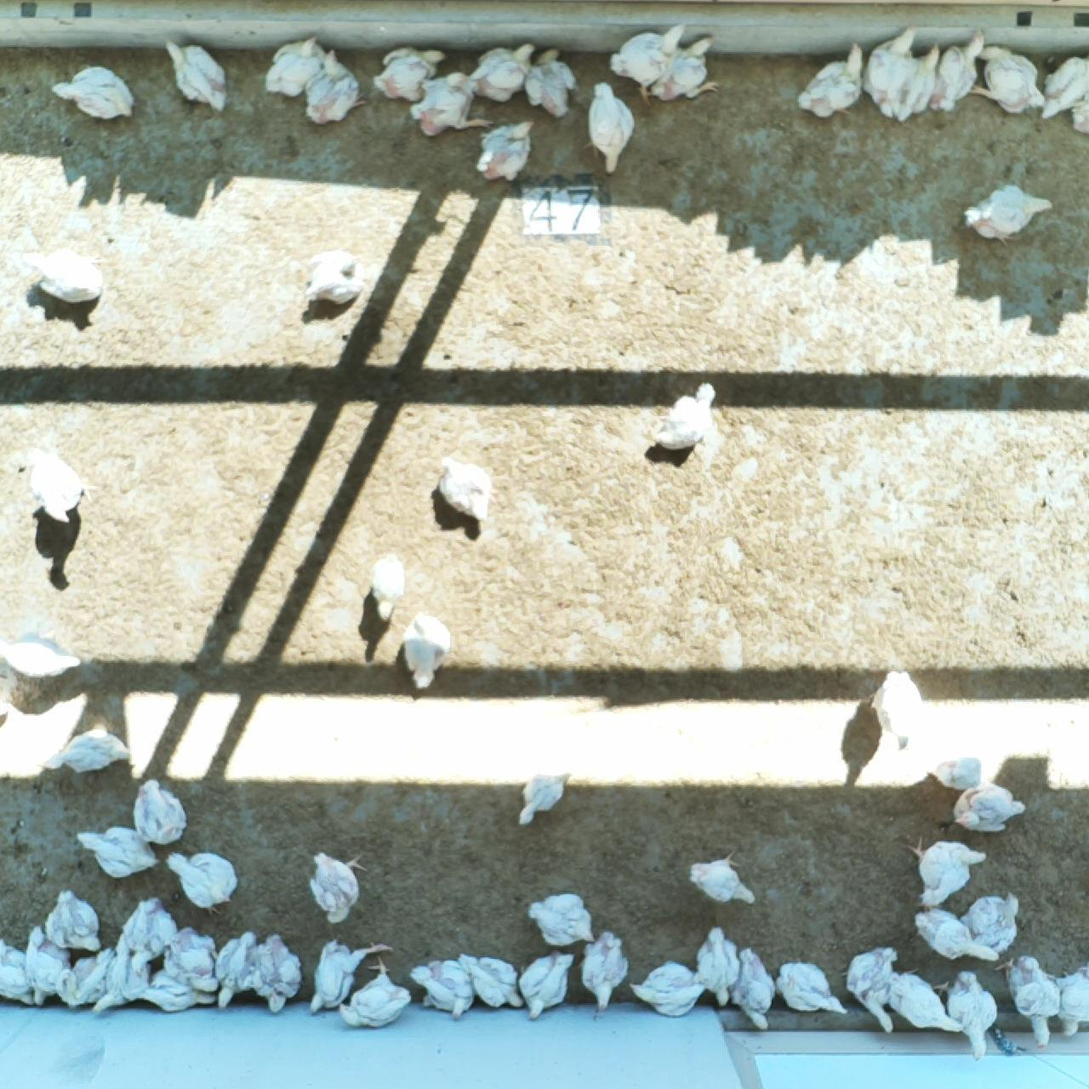chicken: (1005, 955, 1062, 1052), (164, 32, 231, 111), (70, 823, 160, 880), (976, 39, 1040, 117), (647, 35, 723, 100), (944, 970, 1001, 1052), (916, 835, 982, 904), (889, 970, 961, 1033), (602, 23, 677, 83), (342, 959, 413, 1021), (28, 446, 81, 528), (915, 908, 995, 962), (966, 186, 1047, 239), (314, 937, 371, 1012), (798, 44, 857, 115), (847, 944, 897, 1027), (54, 66, 134, 117), (633, 958, 706, 1013), (657, 385, 716, 453), (168, 852, 237, 908), (1, 634, 83, 681), (300, 56, 359, 121), (265, 29, 322, 95), (133, 775, 185, 847), (435, 454, 493, 517), (585, 80, 626, 169), (519, 48, 574, 114), (38, 247, 100, 305), (681, 852, 750, 904), (580, 930, 625, 1009), (413, 76, 477, 131), (875, 31, 915, 117), (774, 961, 841, 1012), (376, 45, 434, 103), (312, 851, 362, 918), (125, 898, 174, 965), (877, 669, 921, 743), (463, 956, 521, 1012), (251, 936, 297, 1006), (55, 730, 129, 773), (732, 949, 773, 1026), (305, 251, 361, 307), (963, 889, 1016, 947), (93, 956, 147, 1012), (521, 954, 573, 1012), (529, 892, 588, 943), (143, 972, 211, 1016), (698, 927, 737, 1003), (404, 616, 443, 690), (215, 937, 254, 1011), (30, 925, 69, 997), (957, 784, 1027, 824), (477, 124, 526, 180), (49, 891, 95, 948), (522, 772, 571, 825), (1047, 52, 1086, 117), (479, 40, 524, 94), (168, 932, 209, 990), (422, 961, 468, 1012), (367, 550, 399, 621), (948, 24, 975, 108), (65, 951, 104, 1006), (1059, 967, 1089, 1036), (914, 48, 943, 111), (1, 944, 31, 997), (931, 761, 985, 784), (1070, 98, 1089, 134)
